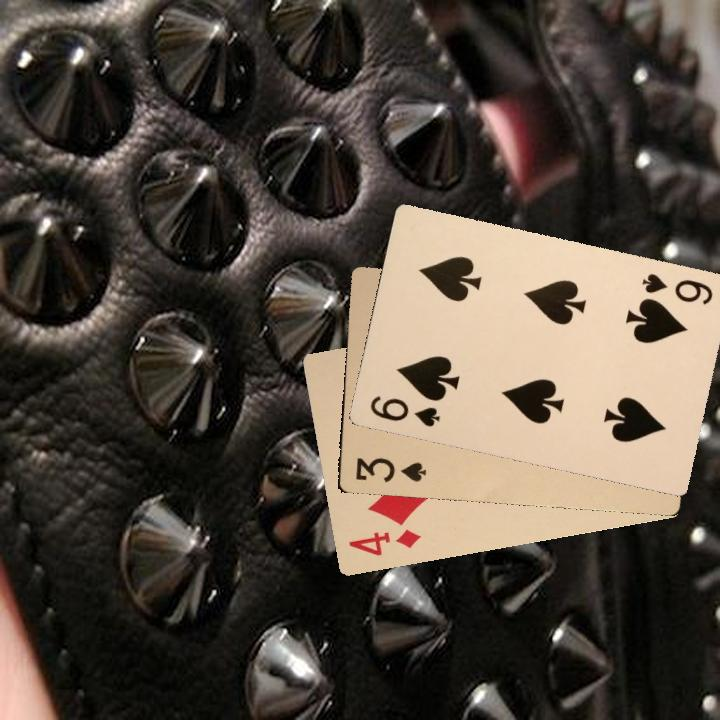3s: (352, 453, 429, 485)
4d: (344, 524, 423, 559)
6s: (366, 391, 443, 430), (638, 269, 716, 307)
